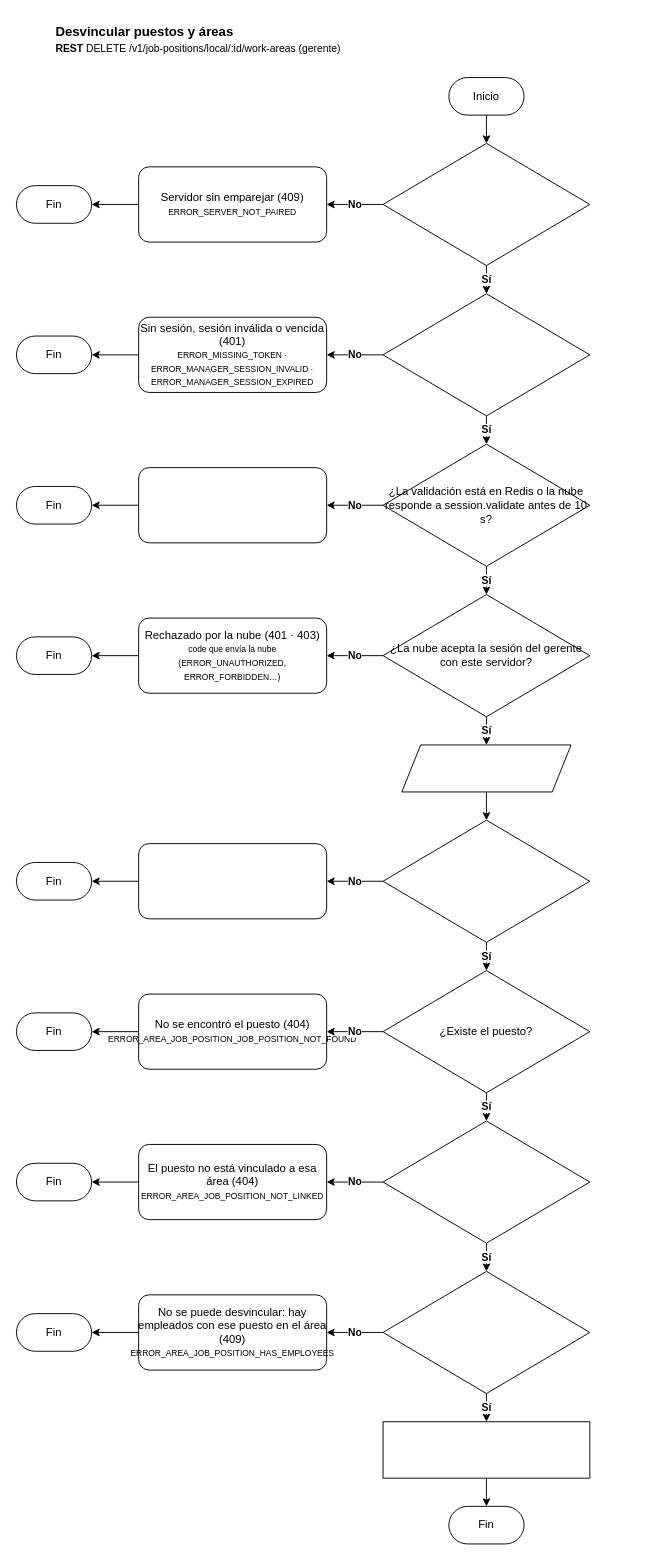
Some shapes in this 672 by 1560 pixel diagram are drawn without their labels. Each missing label, with the centre of its shape:
"Datos inválidos (400) ERROR_BAD_REQUEST" belongs at point (232, 881).
"La nube no responde (503) ERROR_CLOUD_UNAVAILABLE · ERROR_SERVER_UNLINKED" belongs at point (232, 505).
"Recibir datos" belongs at point (486, 768).
"Responder 200 con el mensaje UNLINKED" belongs at point (486, 1449).
"¿El puesto está vinculado a esa área?" belongs at point (486, 1181).
"¿El servidor ya se emparejó alguna vez (pairing_status distinto de unpaired)?" belongs at point (486, 204).
"¿Los datos son válidos?" belongs at point (486, 880).
"¿Ningún empleado tiene ese puesto en el área?" belongs at point (486, 1332).
"¿Trae una sesión de gerente válida (Bearer mss_..., sin 30 min de inactividad)?" belongs at point (486, 354).
